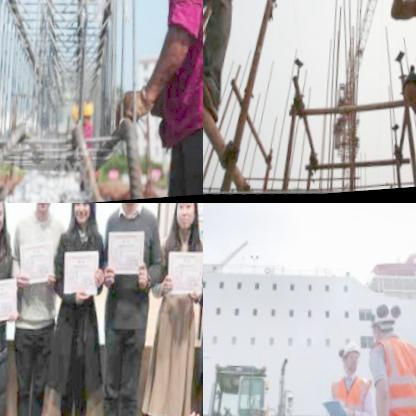head: (167, 203, 199, 237), (67, 203, 98, 229), (112, 203, 146, 216), (26, 203, 59, 216)
helmet: (364, 302, 404, 349), (336, 330, 366, 381)
